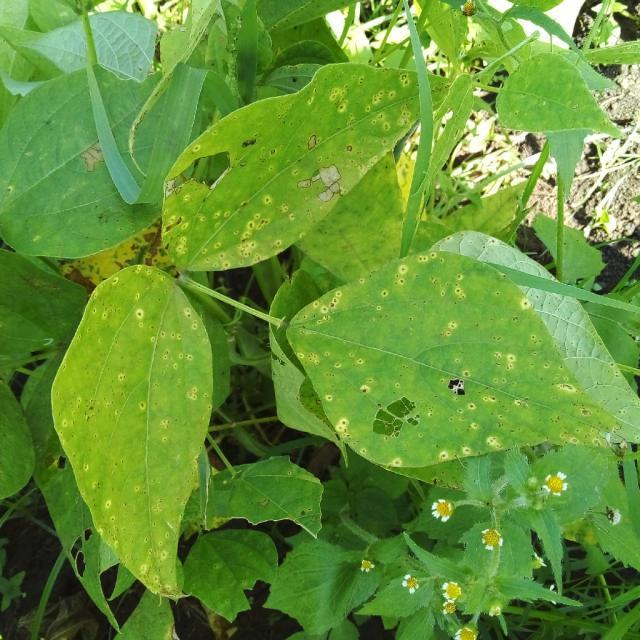hawar: (160, 123, 252, 213), (296, 130, 372, 222), (351, 384, 435, 463)
mozaik: (75, 323, 187, 533)
